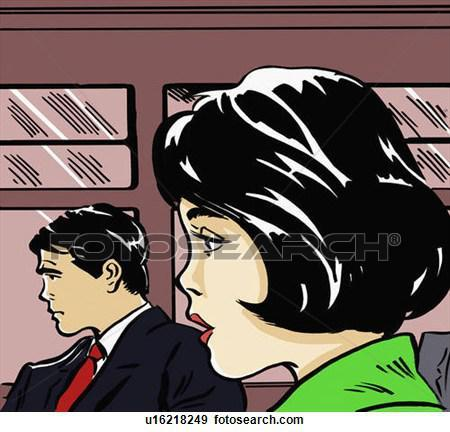person: (137, 61, 448, 421), (5, 200, 174, 416)
